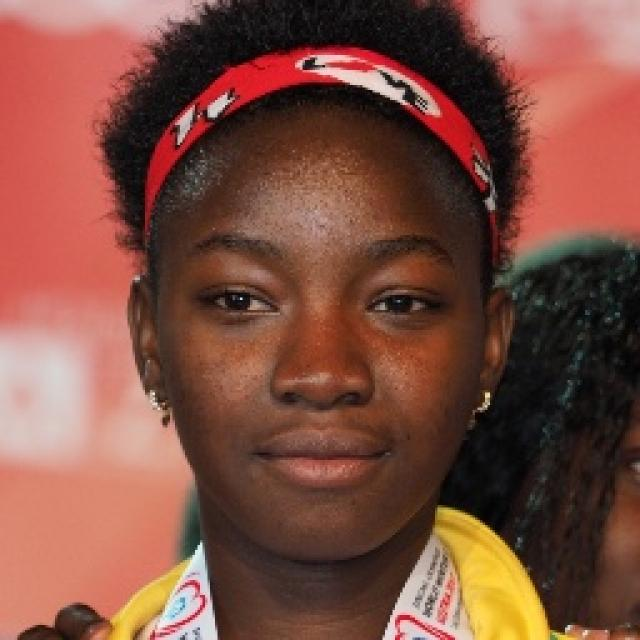earlobe: (472, 284, 516, 416), (126, 275, 168, 405)
